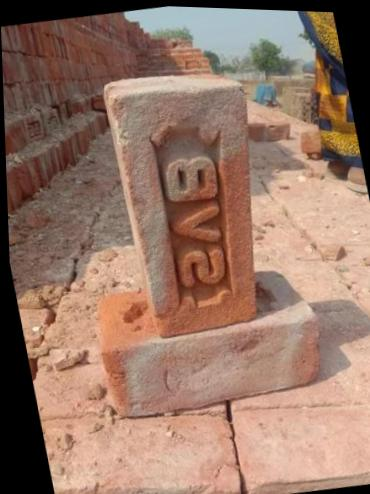brick: (106, 71, 293, 342), (100, 307, 330, 427)
